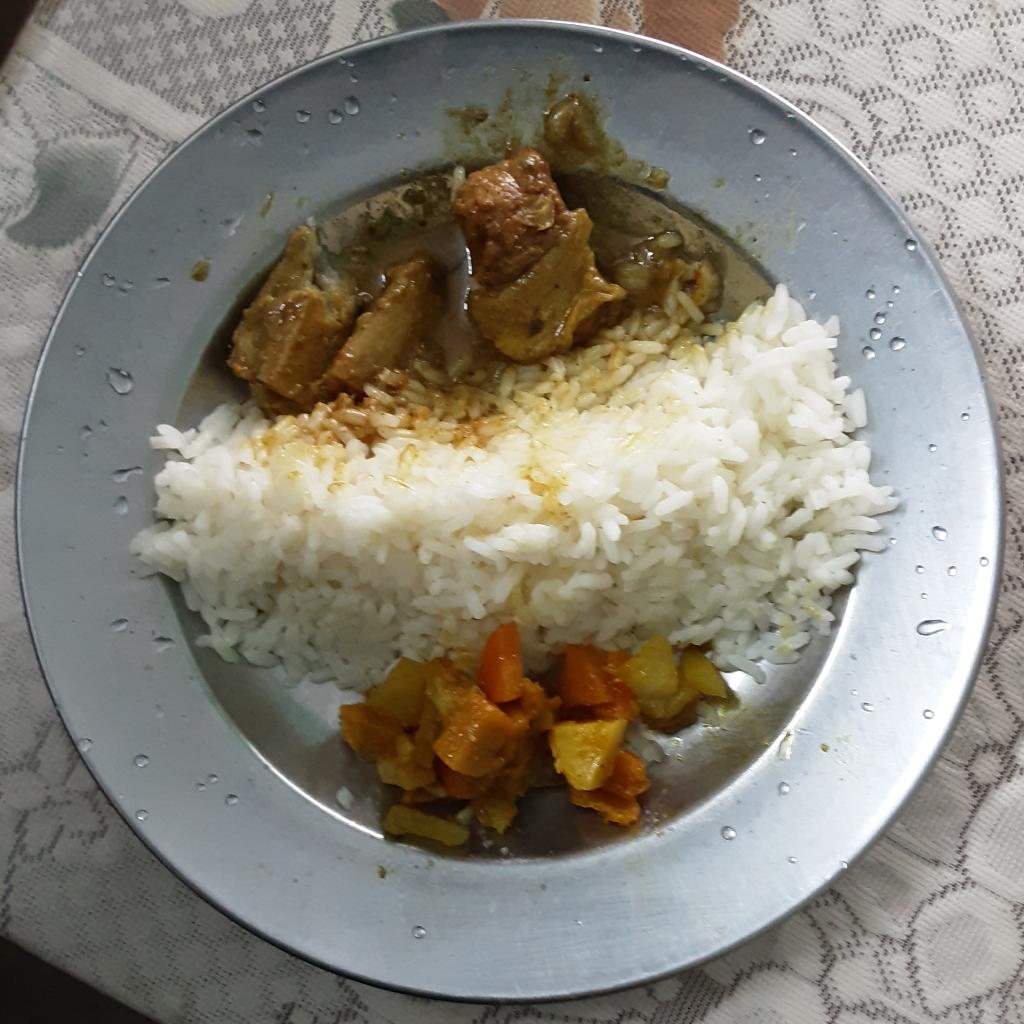fish: (217, 95, 660, 432)
rice: (128, 230, 899, 694)
vegetable: (339, 629, 738, 854)
